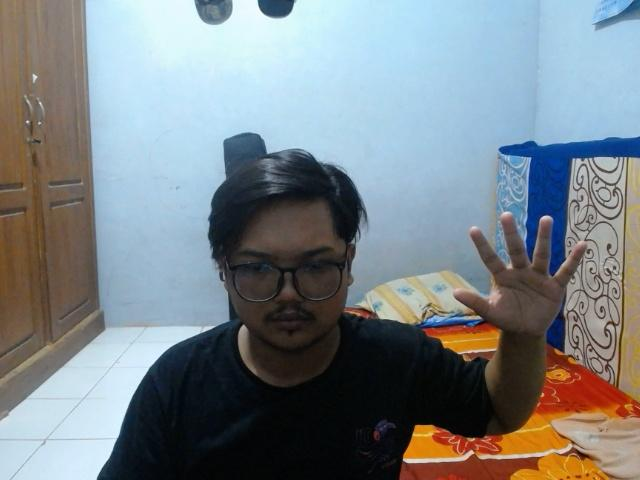Release: (446, 204, 590, 346)
